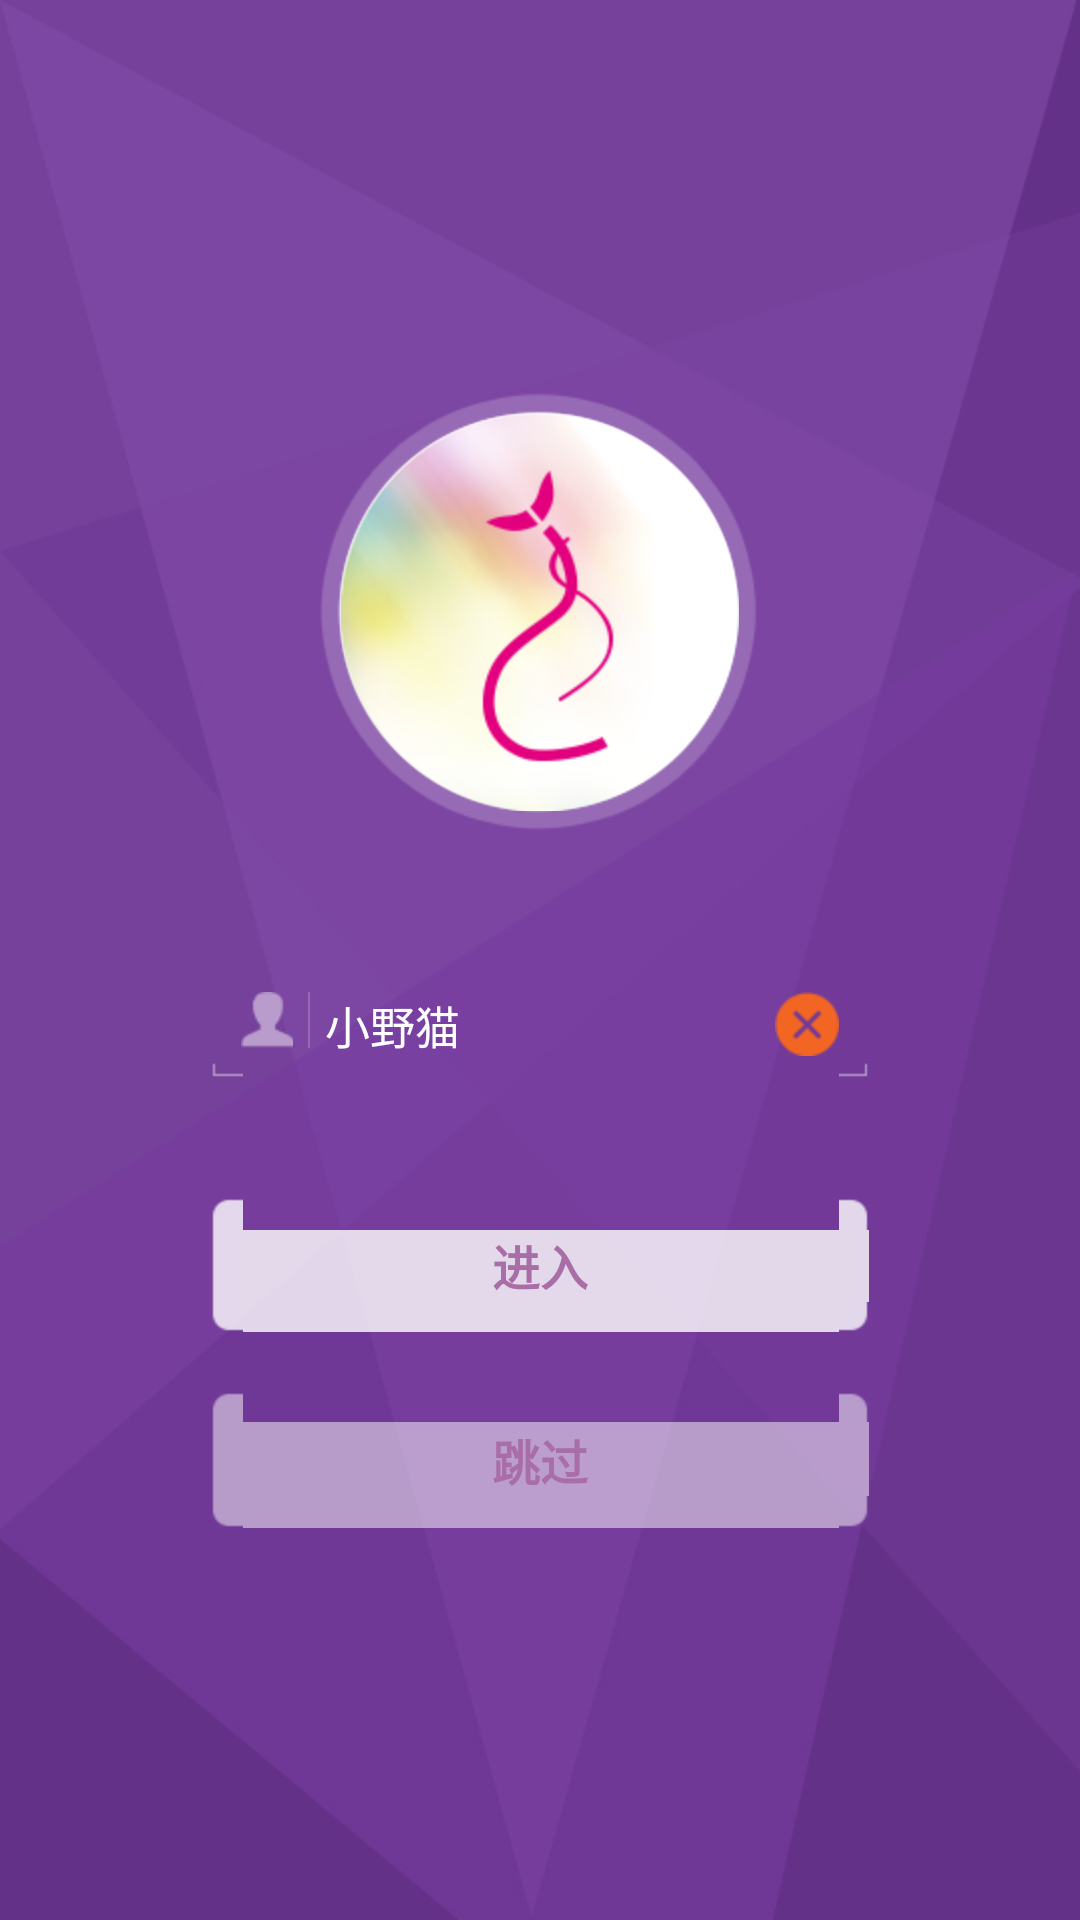

Locate icon controls on the screen. Image size 1080 × 1920, boxes as (x1, y1, x2, y2).
activity register cancel: (775, 992, 839, 1056)
activity register nameicon: (241, 992, 293, 1047)
